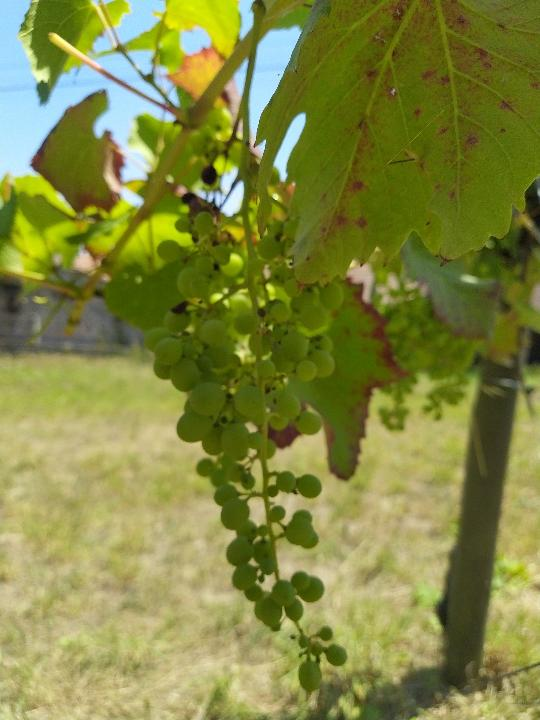grape: (145, 207, 347, 693)
